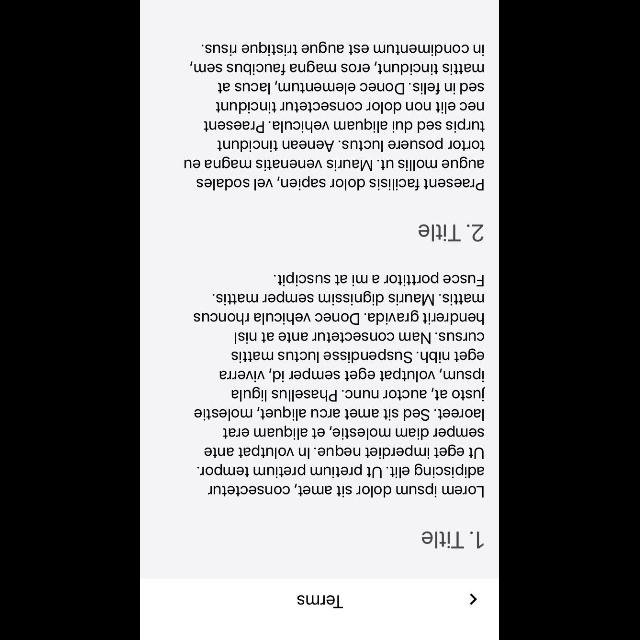icon: (468, 594, 478, 604)
text: (194, 272, 486, 498), (184, 41, 486, 192), (418, 222, 486, 244), (422, 530, 486, 548), (298, 594, 344, 608)
